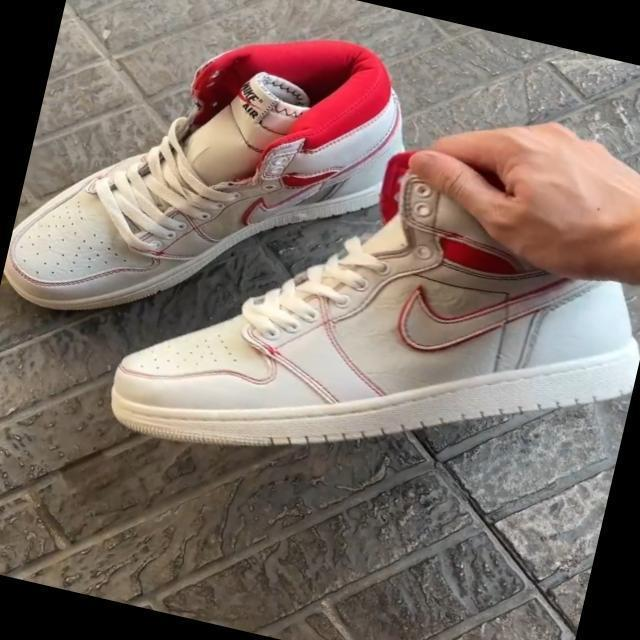nike fake jordan 1: (85, 83, 640, 538), (0, 0, 421, 385)
